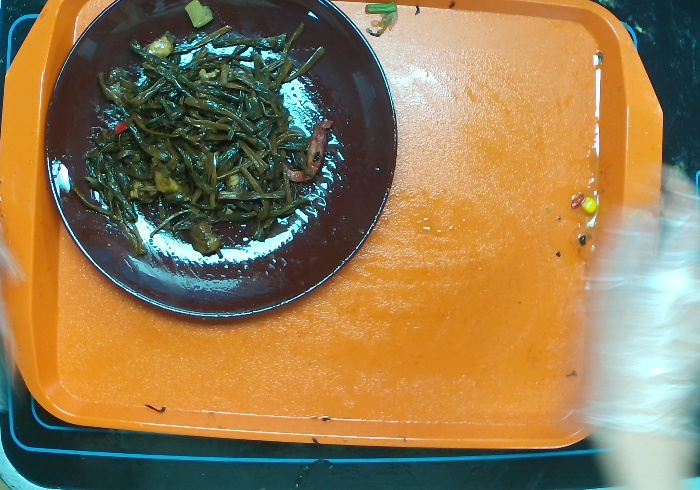HZYJPL-Ka_Fei_Yuan_Pan: (35, 1, 401, 328)
